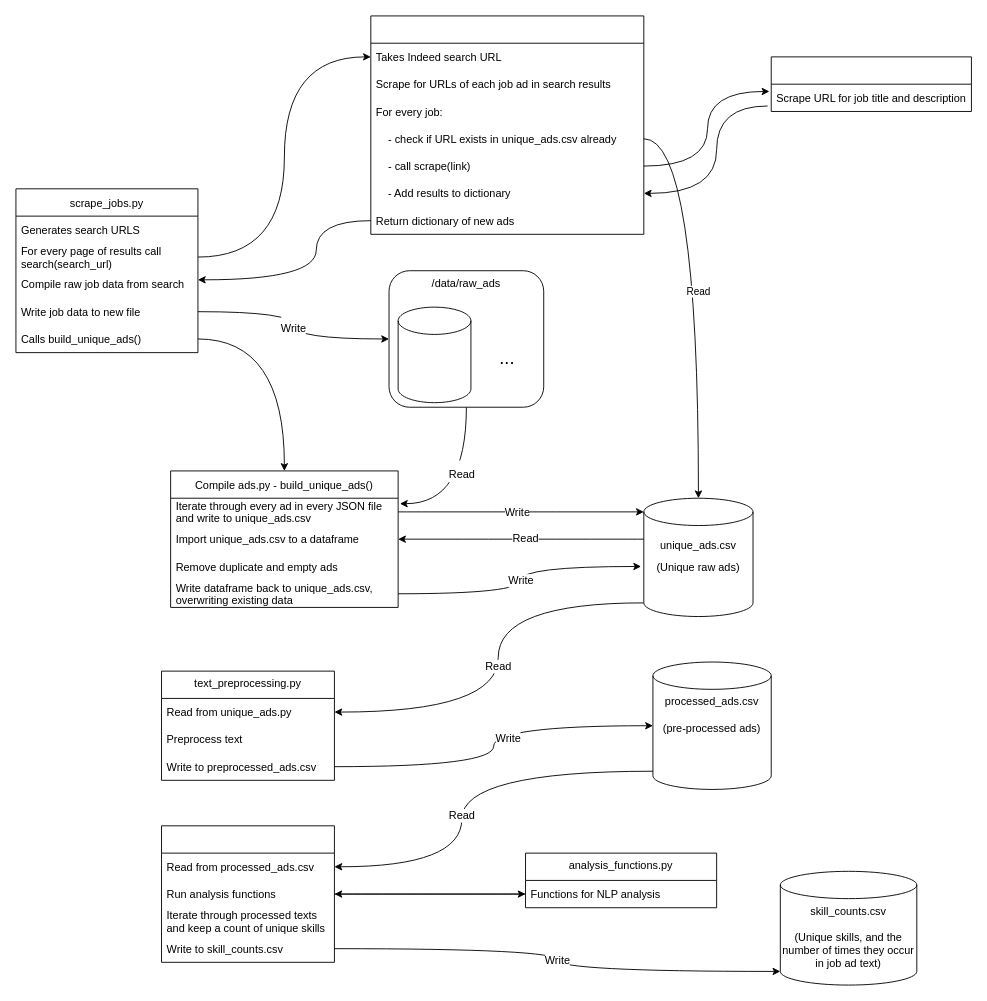
Some shapes in this 987 by 1001 pixel diagram are drawn without their labels. The box of each missing label's shape, as (x1, y1, x2, y2) in pixels:
analyze.py: (161, 825, 334, 962)
scrape.py - scrape(link): (770, 56, 971, 111)
search_ads.py - search(search_url, search_dict): (370, 15, 644, 234)
title-data.json: (397, 306, 471, 403)
